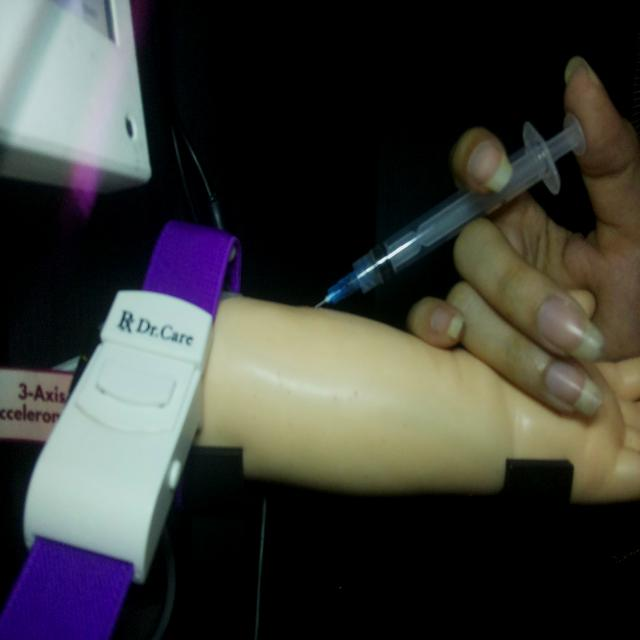22 degrees: (313, 109, 586, 311)
